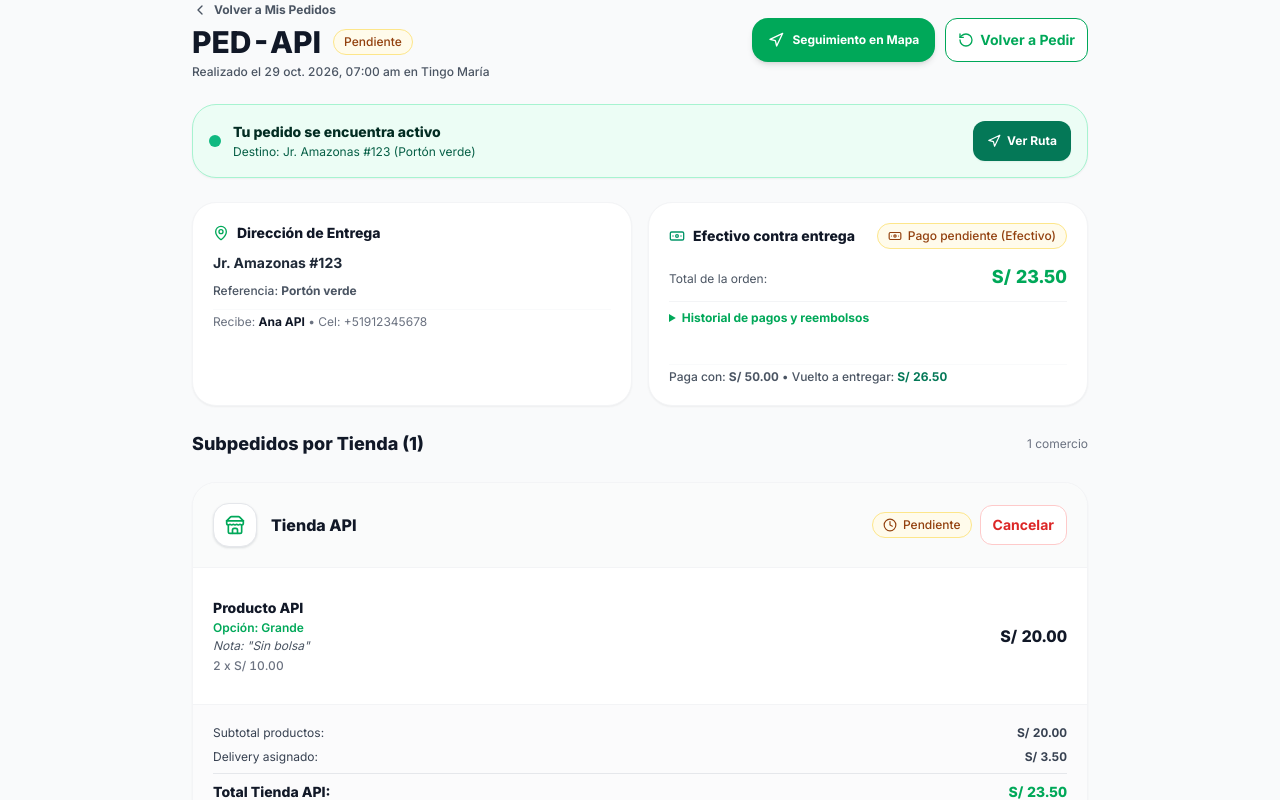
Test: Vistas originales de pedidos con API › cancela usando la versión del servidor y refresca el detalle
What coordinates should you click on to do the following:
click the button "Cancelar"
I would click on:
 (1023, 525)
Its box is [980,505,1067,545].
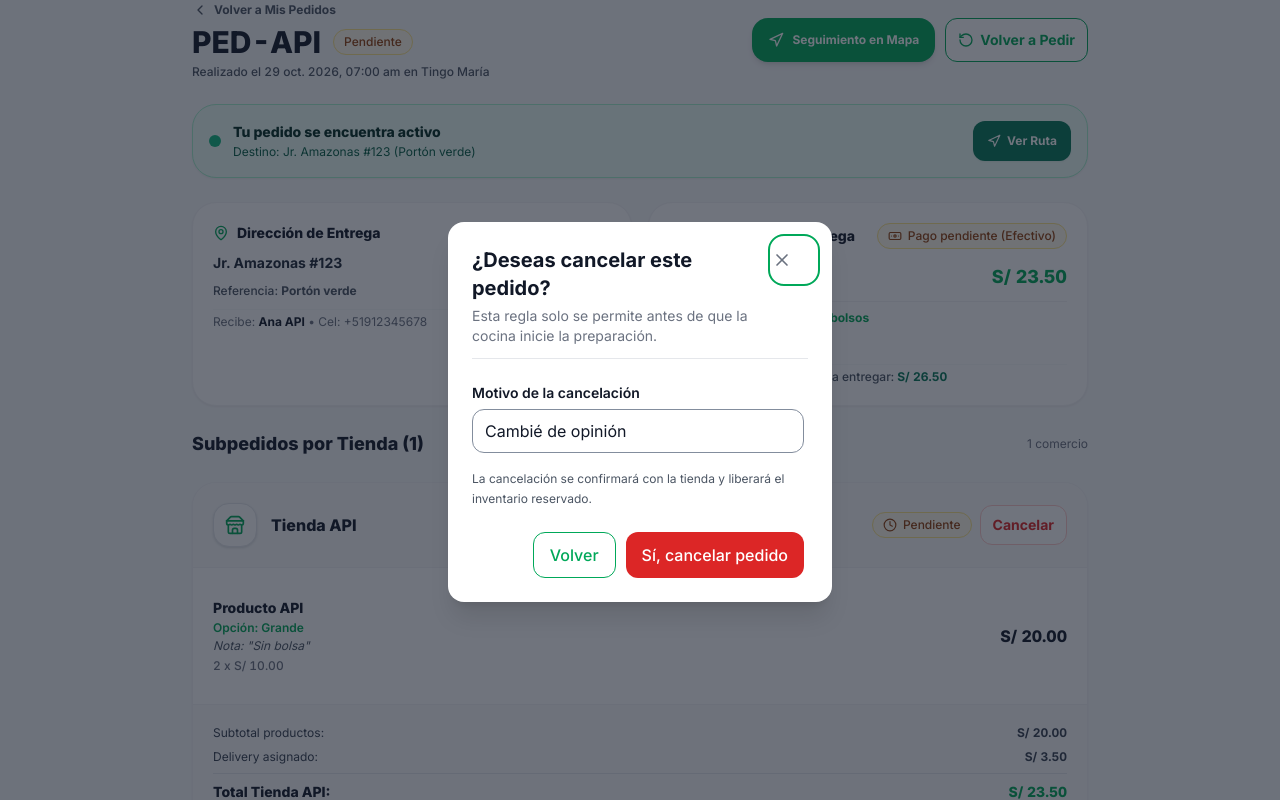
What coordinates should you click on to do the following:
click the button "Sí, cancelar pedido"
I would click on:
 (715, 555)
Its box is [626,532,804,578].
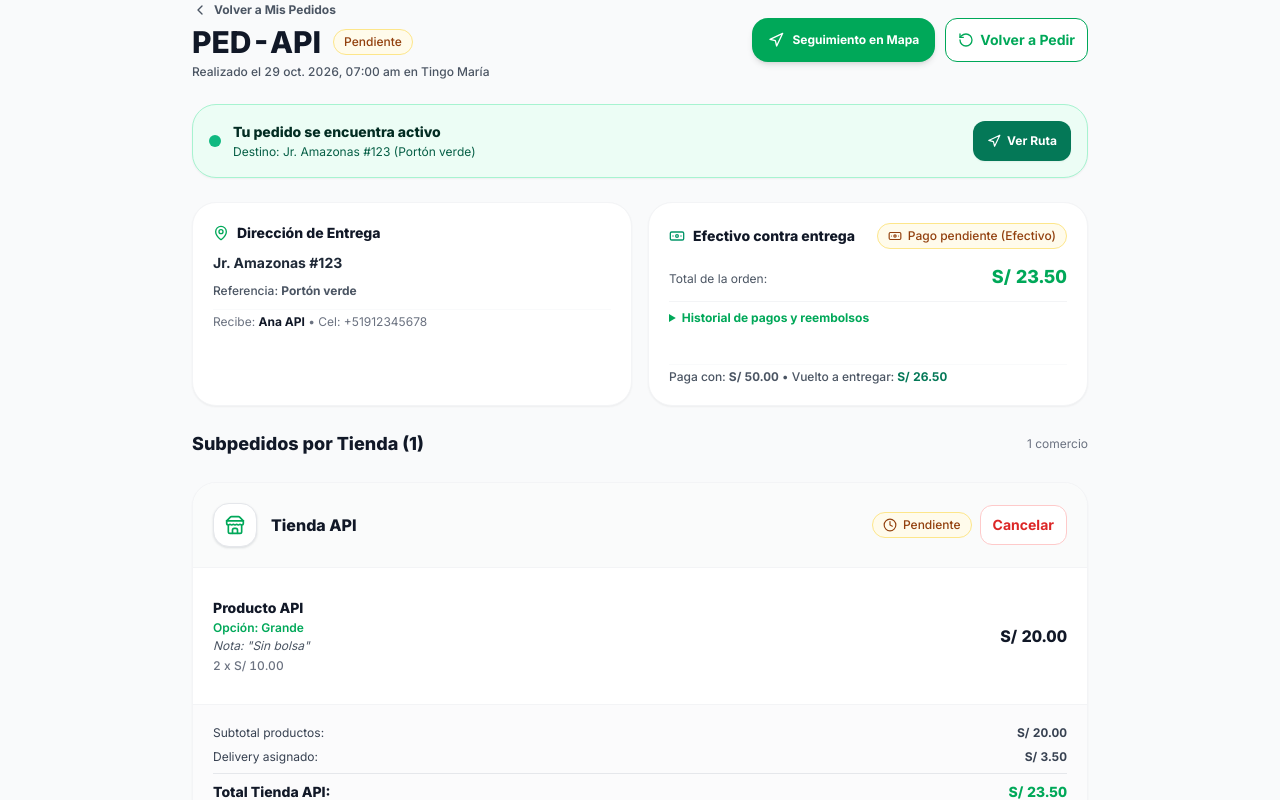
Expected: the dialog is gone
